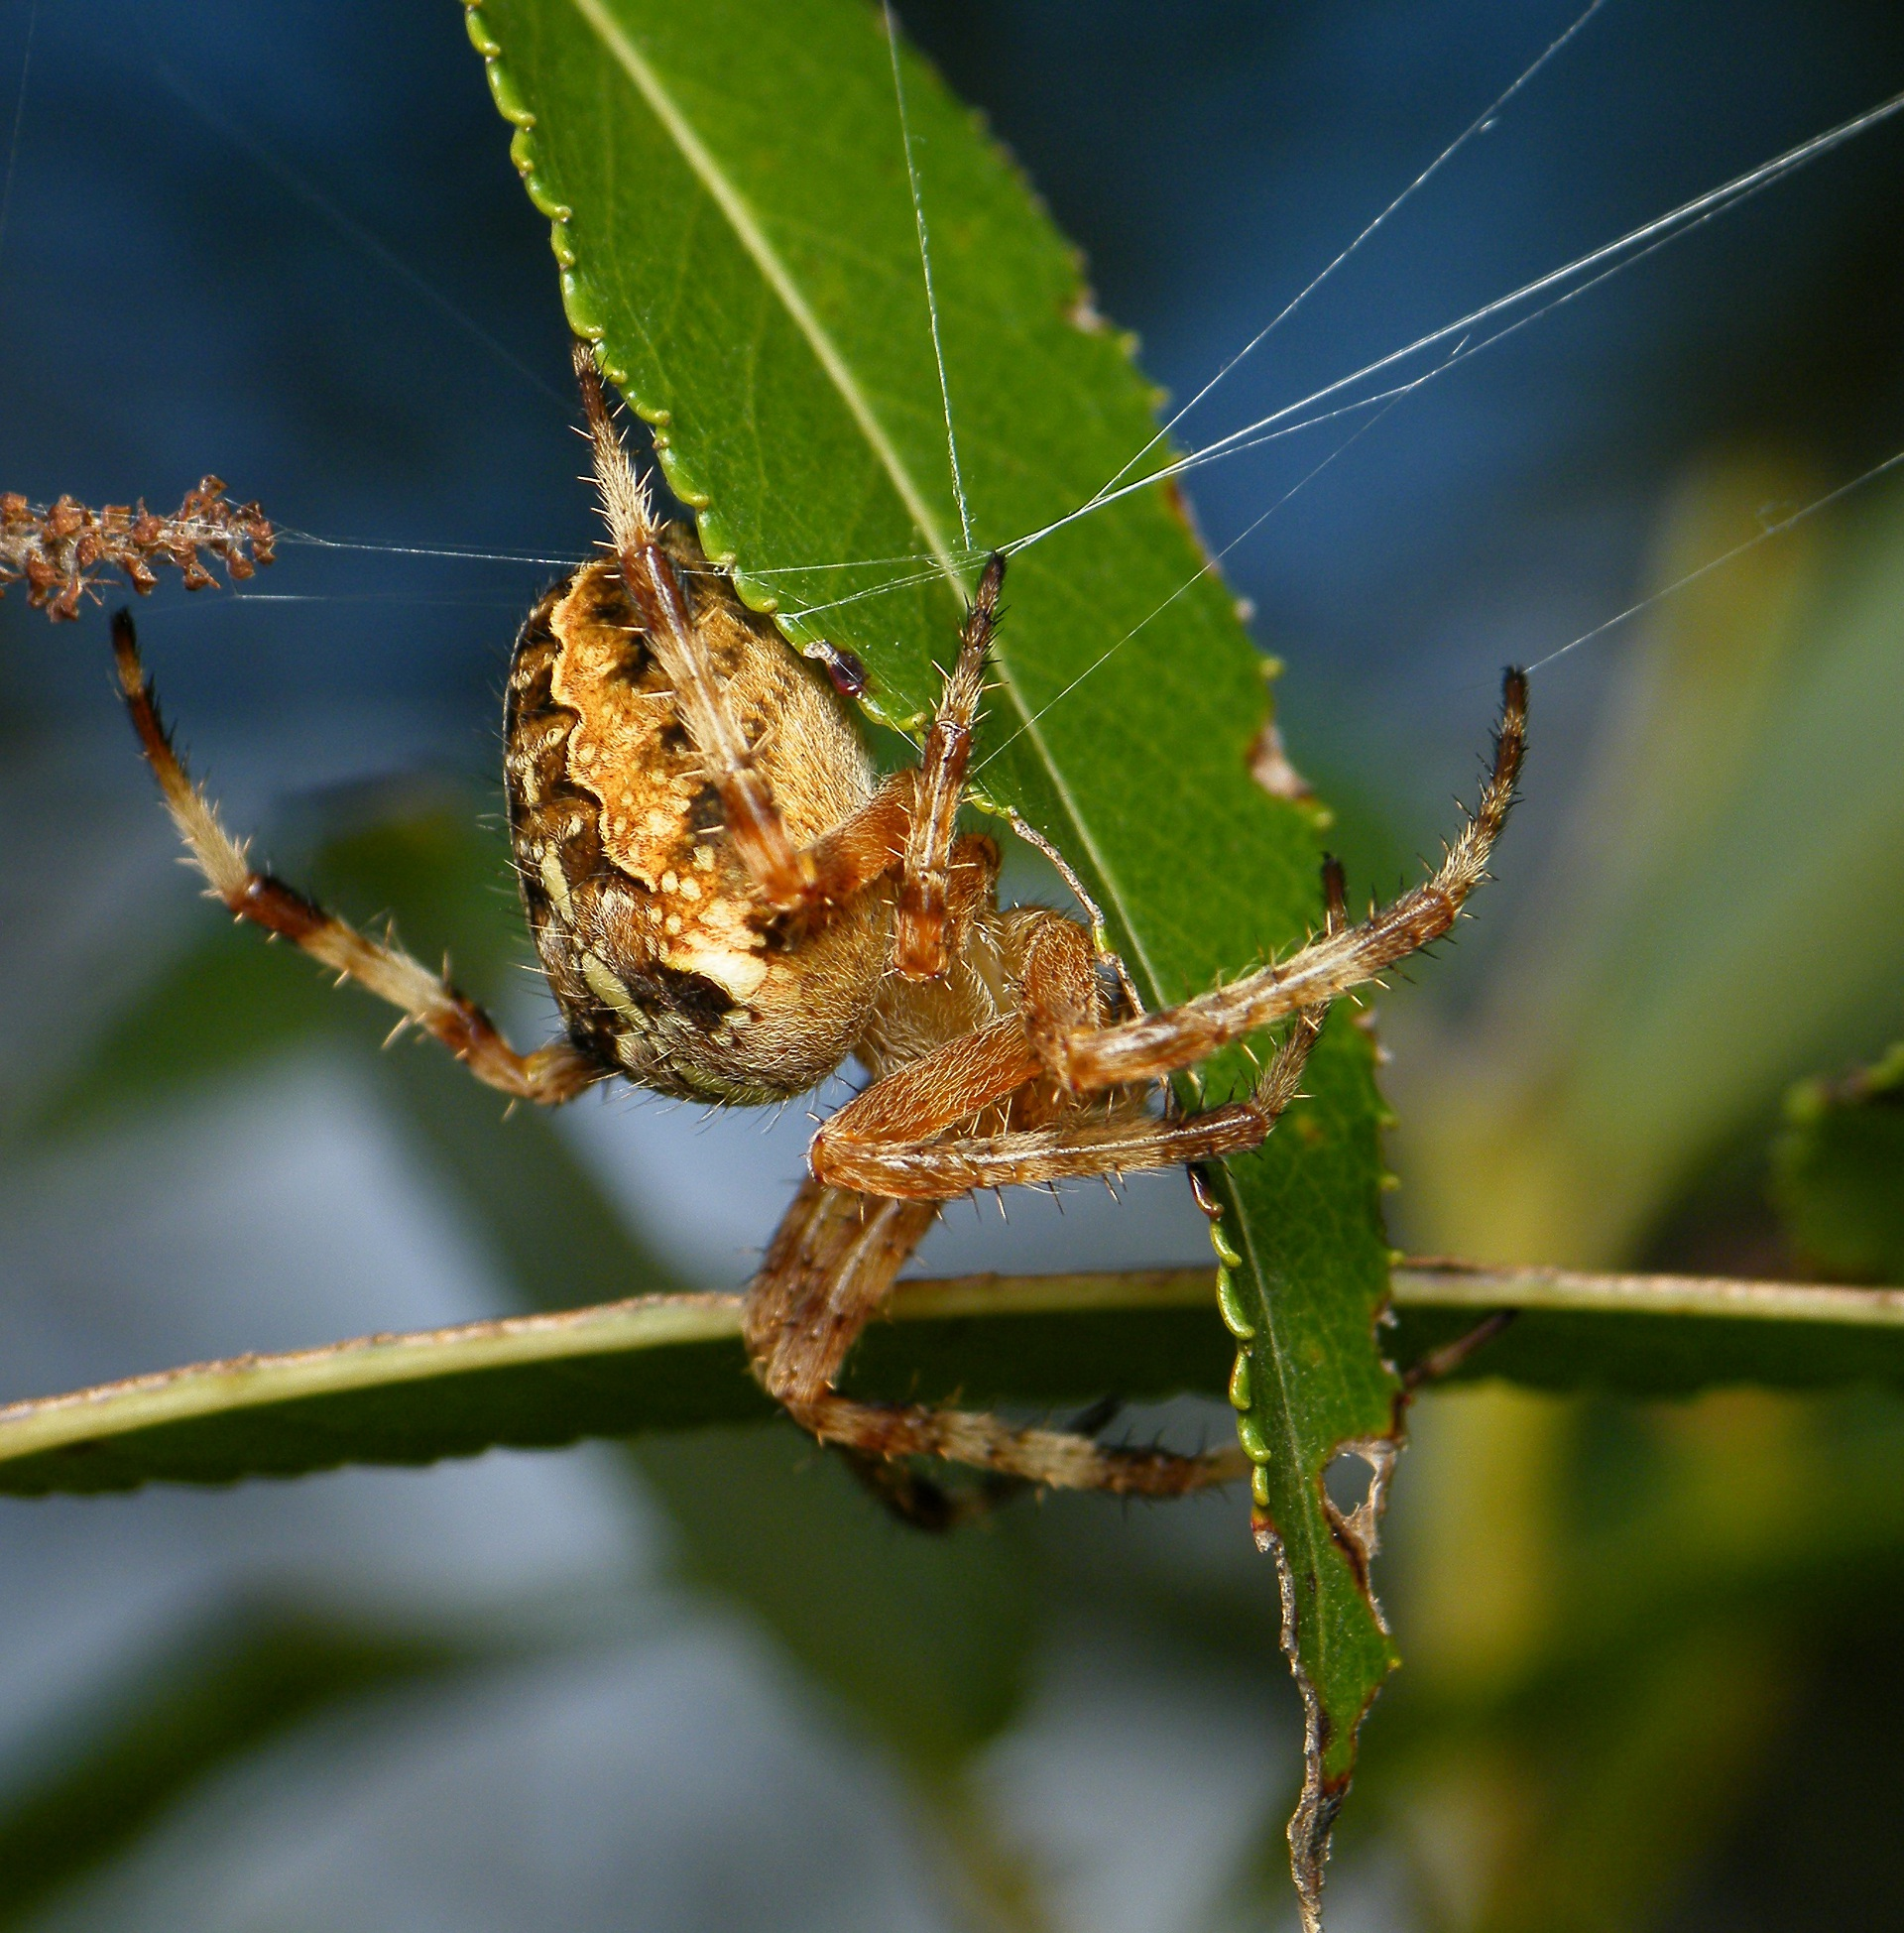spider: (65, 249, 1646, 1677)
